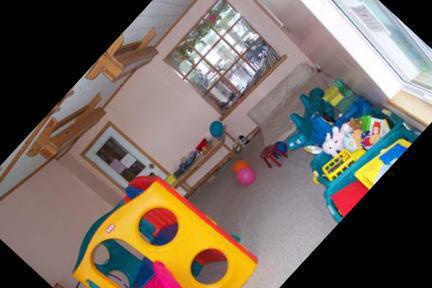Otro Obstaculo: (42, 158, 281, 288), (265, 65, 365, 167), (323, 121, 418, 222), (308, 104, 400, 200), (291, 89, 378, 180), (223, 130, 296, 204)
